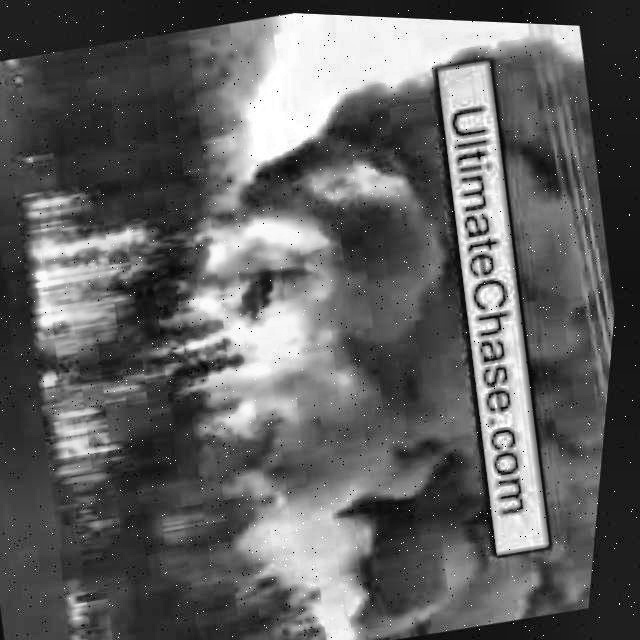Fire: (1, 167, 229, 519), (168, 183, 388, 467), (301, 136, 410, 214), (70, 578, 126, 640)
Smoke: (294, 197, 547, 640), (454, 24, 640, 607)
